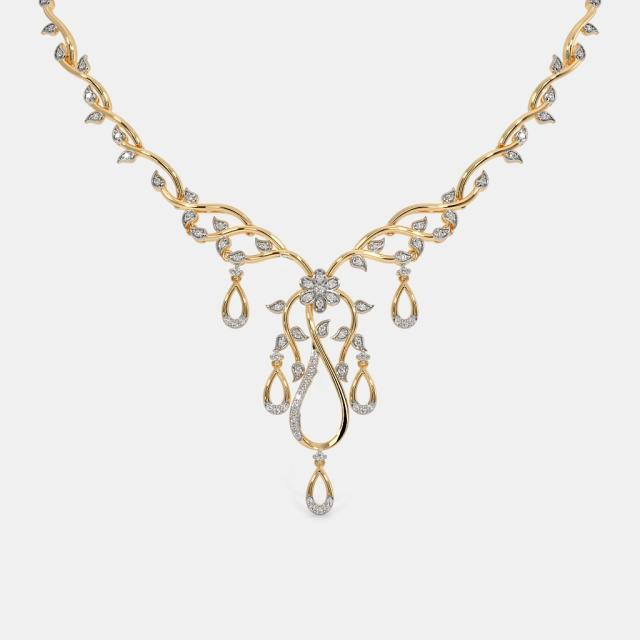missing gem: (296, 394, 301, 399)
